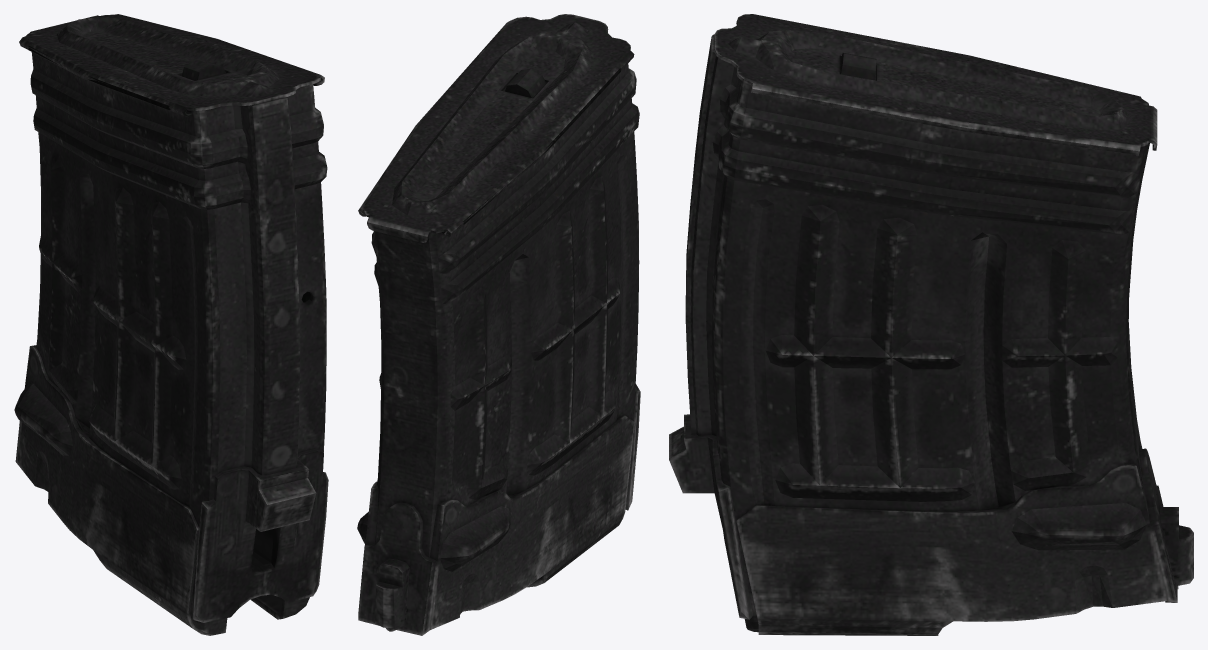
3 views of the same model, side by side, from view 1: azimuth 30°, elevation 25°; view 2: azimuth 150°, elevation 25°; view 3: azimuth 270°, elevation 25° (orthographic). The views are drawn at different scales.
Parts seen in each view (by area): view 1: TW_5c471c442e221602b542a6f8_PZ_Import; view 2: TW_5c471c442e221602b542a6f8_PZ_Import; view 3: TW_5c471c442e221602b542a6f8_PZ_Import.
Boxes of the visible parts, <box> form: TW_5c471c442e221602b542a6f8_PZ_Import: <box>14,14,328,635</box>; TW_5c471c442e221602b542a6f8_PZ_Import: <box>357,14,640,635</box>; TW_5c471c442e221602b542a6f8_PZ_Import: <box>669,14,1193,635</box>.
Size of the model in its own units: 0.019 by 0.0577 by 0.0702.
Materials: 1 (1 with a texture image).
